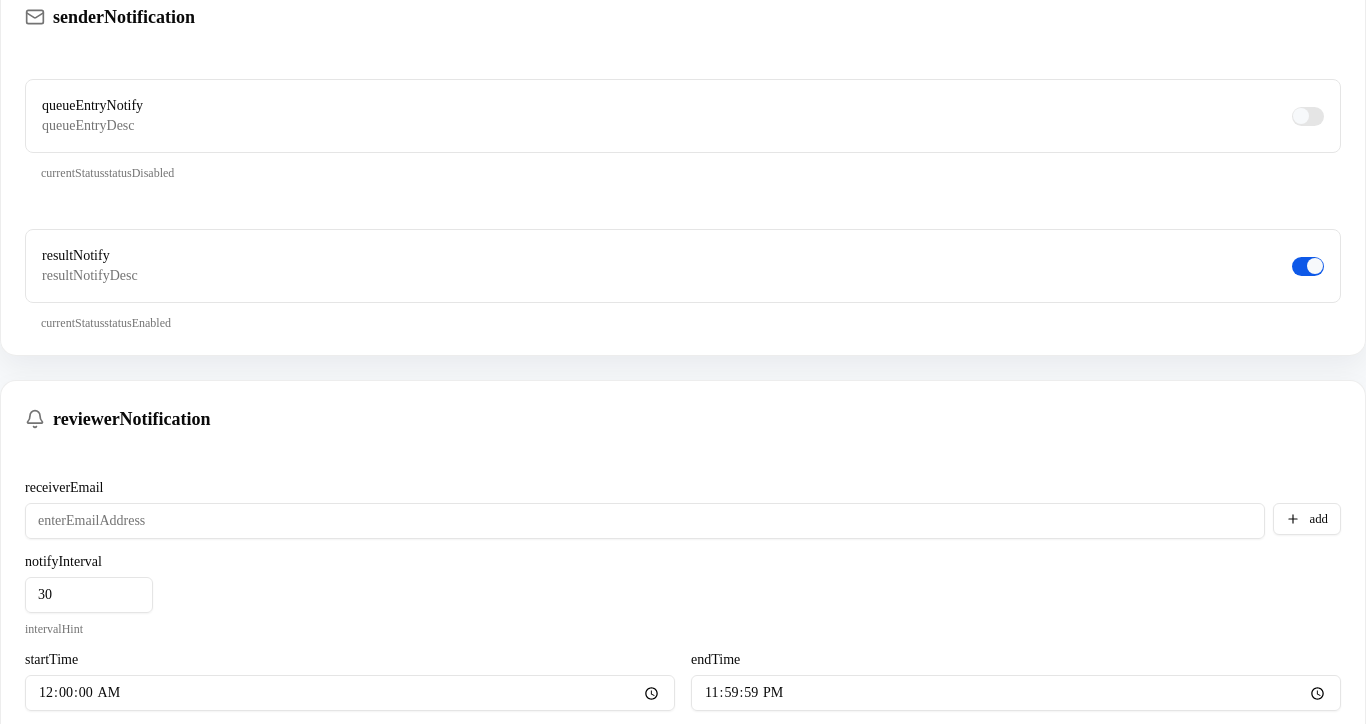
Scenario: ReviewSettingsTab reviewer email validation feedback (GT-12250) › shows a duplicate error when the address is already in the list
(page scrolled)
Type "a@corp.com" into the field with test id "disposal-settings-reviewer-email-input".
click(645, 521); type("a@corp.com")  # box [25,503,1264,539]
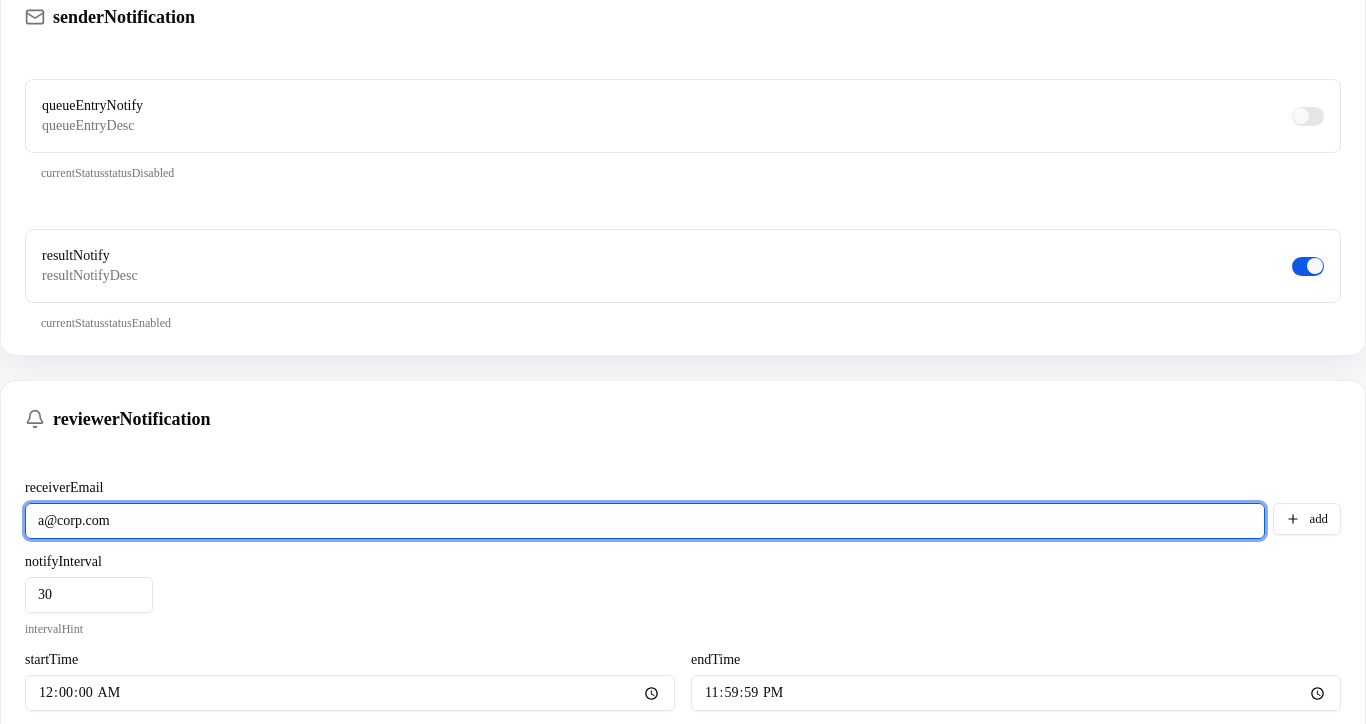
Click the button with test id "disposal-settings-reviewer-email-add".
click(1307, 519)  # box [1272,503,1341,535]
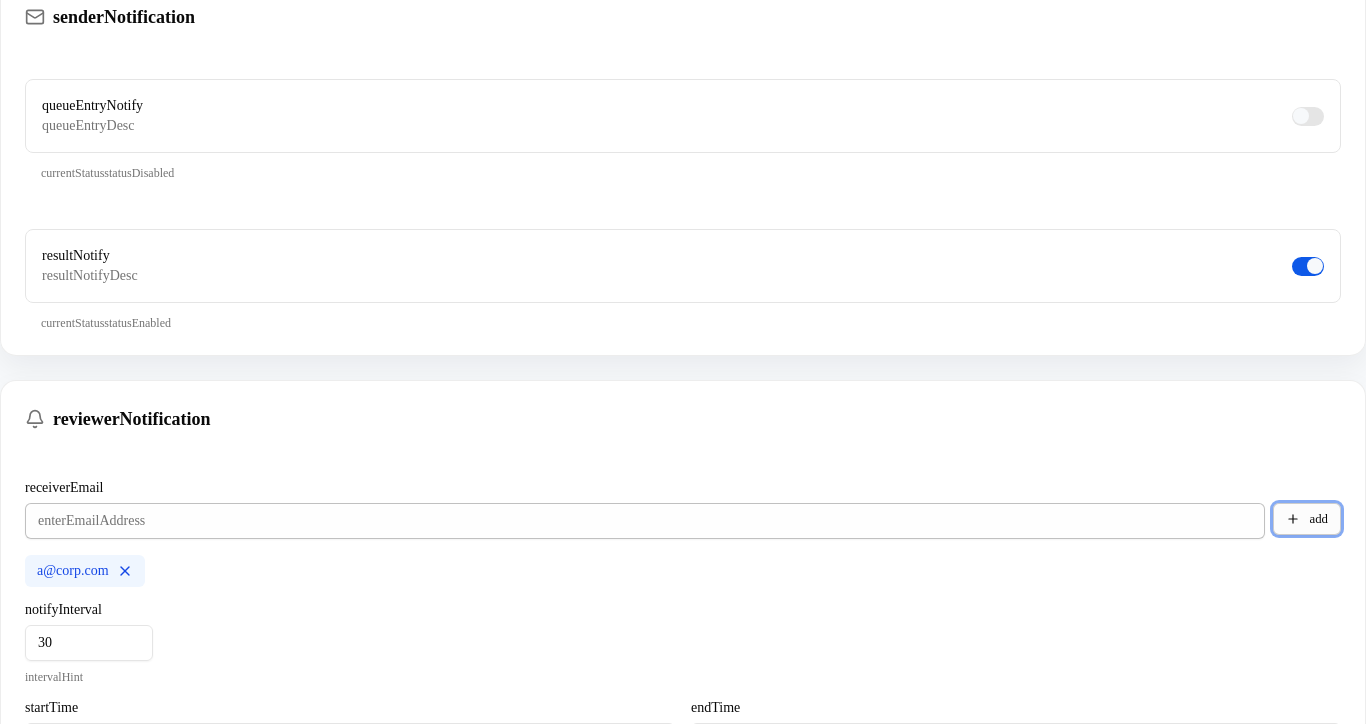
Type "a@corp.com" into the field with test id "disposal-settings-reviewer-email-input".
click(645, 521); type("a@corp.com")  # box [25,503,1264,539]
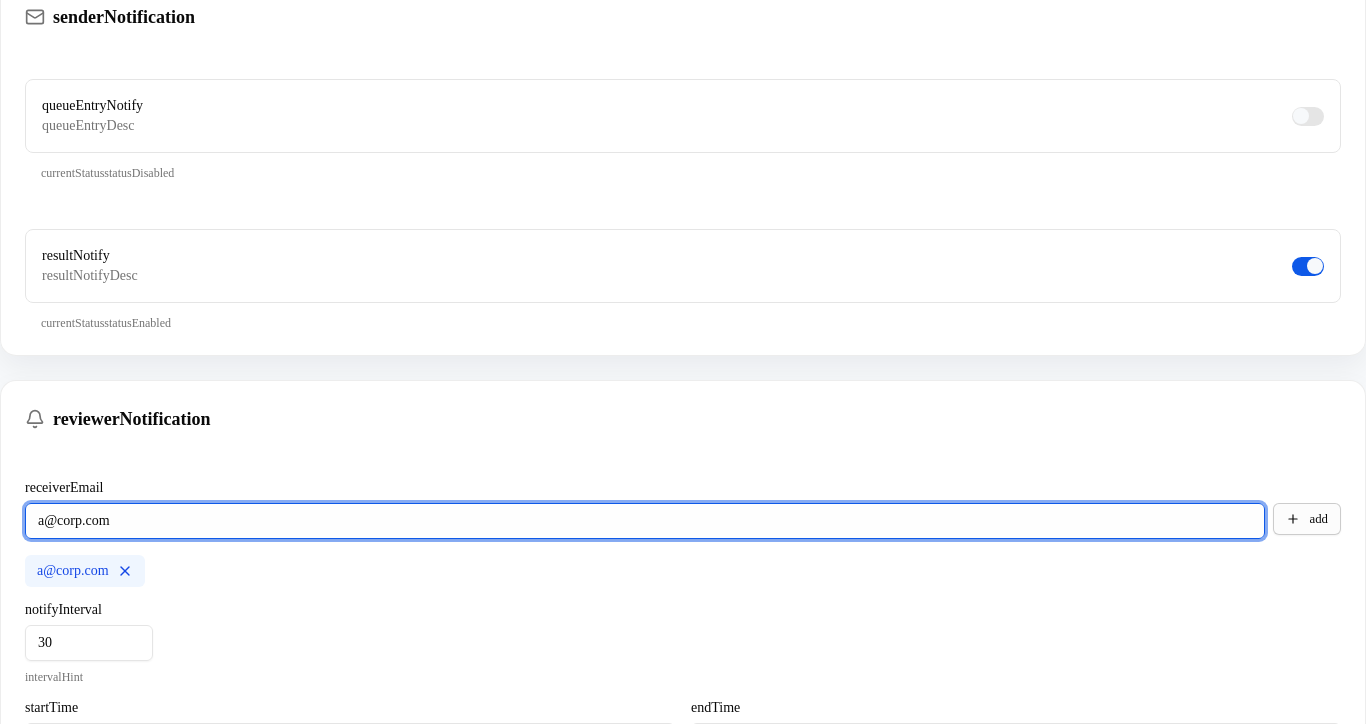
Click the button with test id "disposal-settings-reviewer-email-add".
click(1307, 519)  # box [1272,503,1341,535]
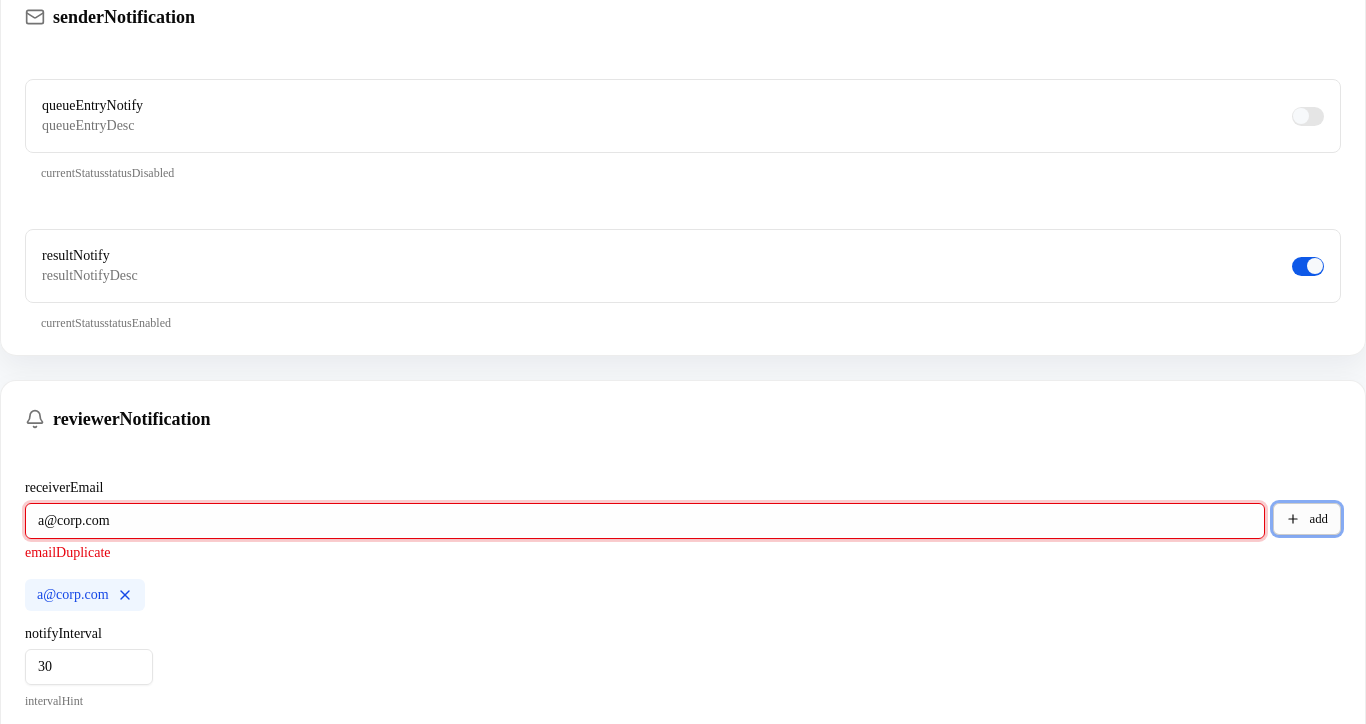
Check: the message with test id "disposal-settings-reviewer-email-error" reads "emailDuplicate", box [25,545,110,560]
